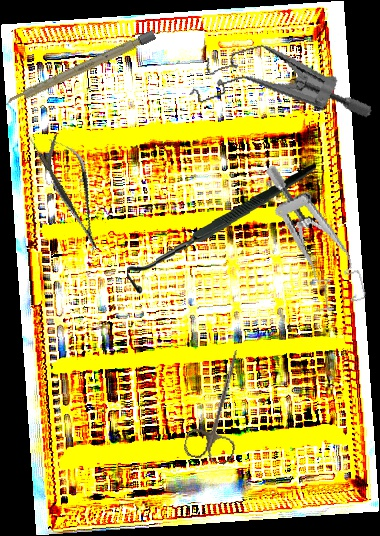Hook Surgical: (121, 163, 323, 296)
Iris Scissors: (181, 343, 259, 467)
Micro Scissor: (37, 127, 112, 259)
Scalpel Handle: (3, 29, 157, 109)
Speculum: (179, 16, 374, 163), (262, 149, 370, 321)
Surgical Spoon: (22, 128, 85, 225)
